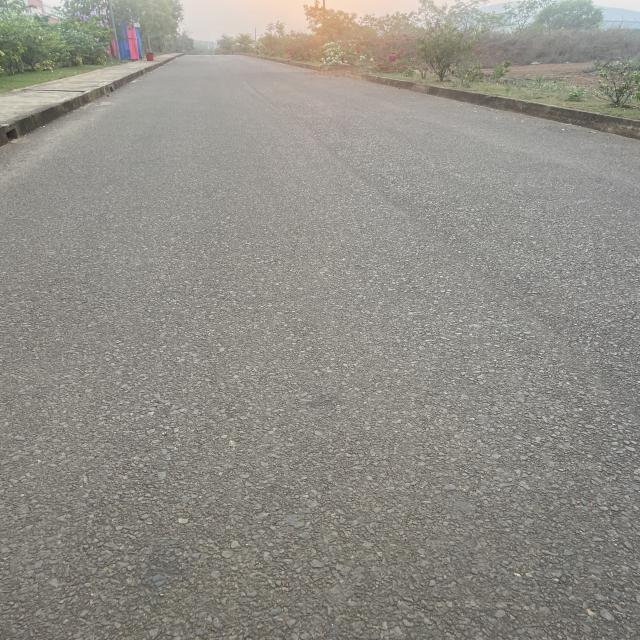D43: (280, 113, 587, 395)
